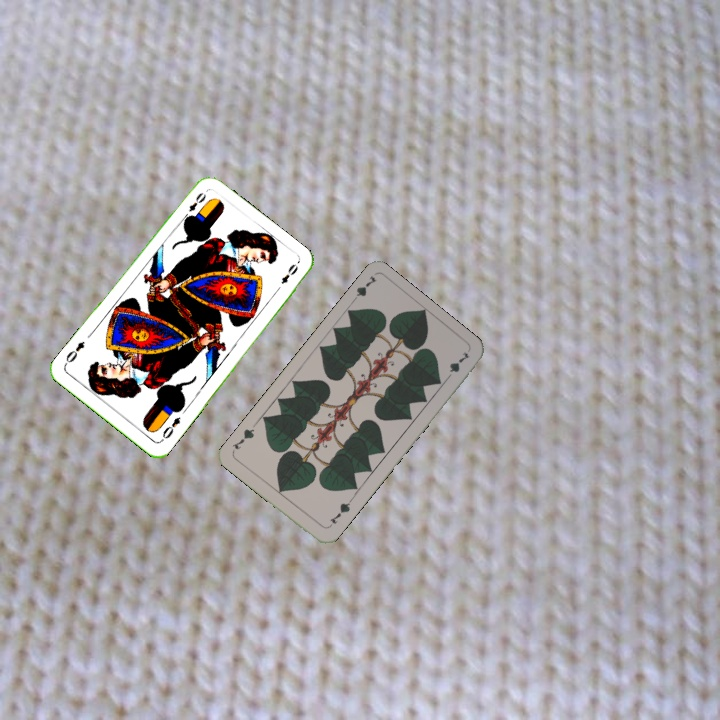EO: (179, 188, 209, 222), (158, 412, 184, 441)
G7: (346, 272, 379, 306), (326, 496, 354, 526)
